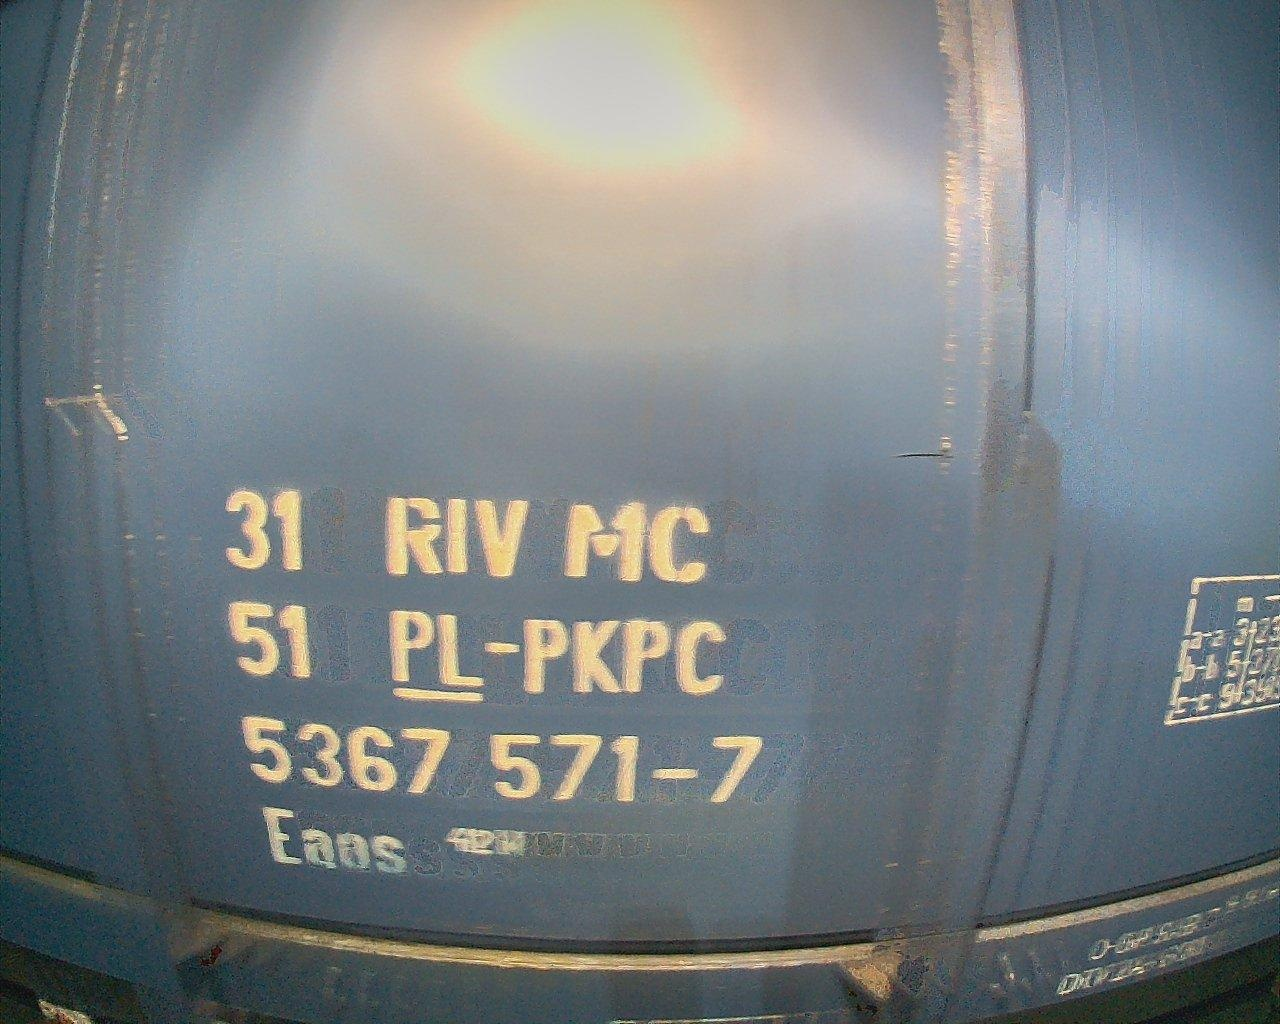UIC: (215, 486, 770, 884)
